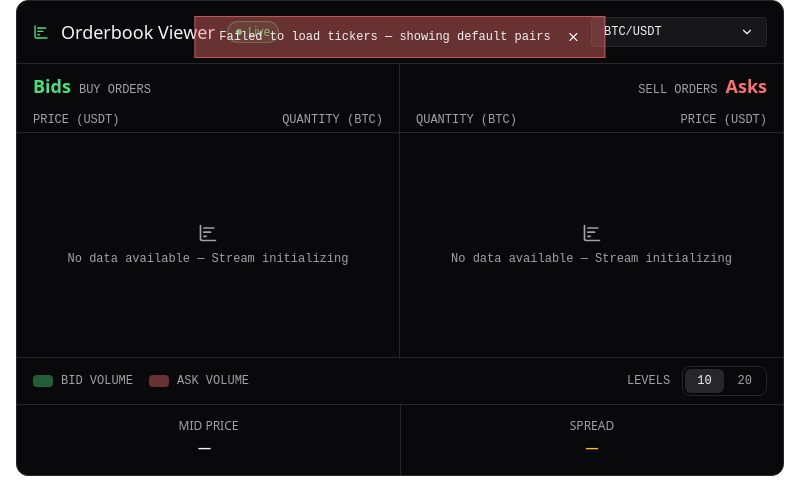
OrderbookViewer › shows error toast when hasError is true and dismisses on close
The image size is (801, 493).
expect the text "Failed to load tickers — showing default pairs" is shown: met, box [194,16,606,58]
What coordinates should you click on to do the following:
click the button named "Close"
I would click on:
 (574, 37)
Its box is [567,30,581,44].
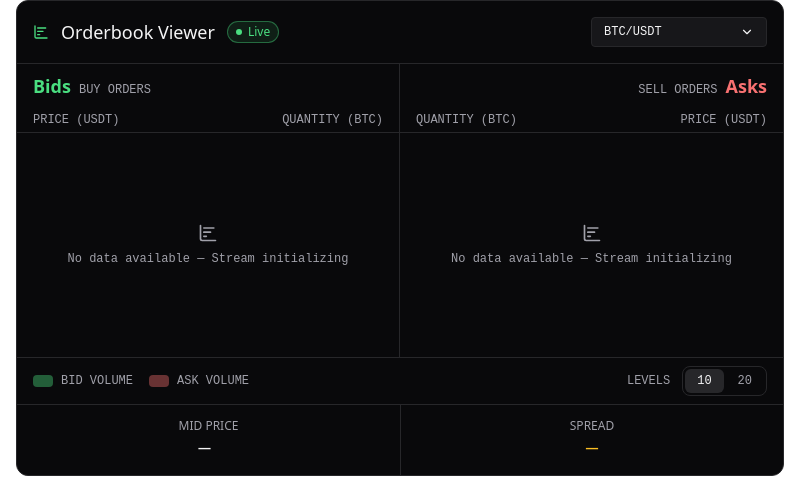
expect the message "Failed to load tickers — showing default pairs" is gone: met
